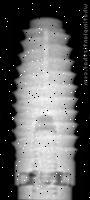BioHorizons: (13, 16, 79, 200)
